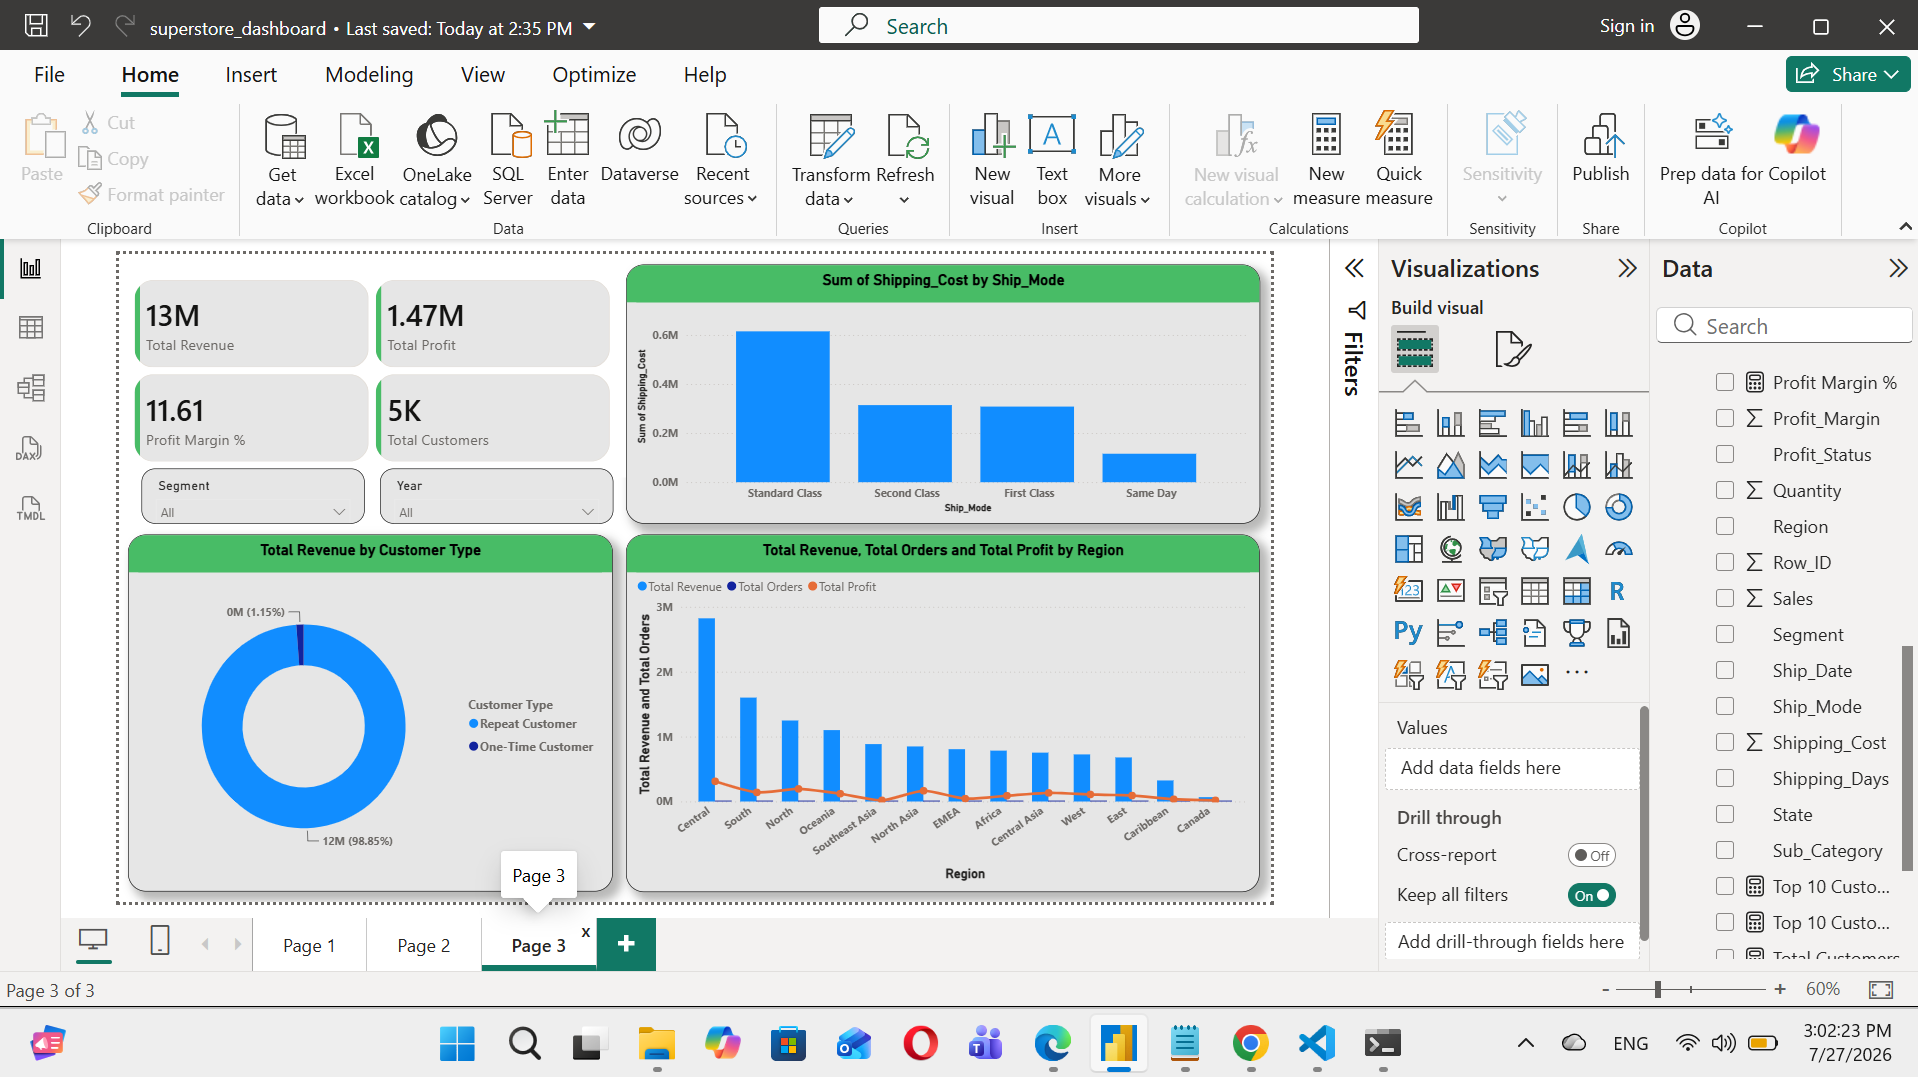

The page's visual inventory and layout, read from the dashboard file:
{"tool":"powerbi","page":{"name":"Page 3","canvas":[1280,720],"ordinal":2},"visuals":[{"type":"donutChart","fields":{"Category":["superstoredb sales.Customer Type"],"Y":["superstoredb sales.Total Revenue"]},"box":[10,311.7,538.3,396.7],"z":0},{"type":"columnChart","fields":{"Category":["superstoredb sales.Ship_Mode"],"Y":["Sum(superstoredb sales.Shipping_Cost)"]},"box":[563.5,11.3,704.4,288.2],"z":1000},{"type":"cardVisual","fields":{"Data":["superstoredb sales.Total Revenue","superstoredb sales.Total Profit","superstoredb sales.Profit Margin %","superstoredb sales.Total Customers"]},"box":[0,11.3,563.5,236.4],"z":3000},{"type":"slicer","fields":{"Values":["superstoredb sales.Segment"]},"box":[24.3,238,247.7,61.5],"z":4000},{"type":"slicer","fields":{"Values":["superstoredb sales.Year"]},"box":[289.8,238,259.1,61.5],"z":5000},{"type":"lineClusteredColumnComboChart","fields":{"Y":["superstoredb sales.Total Revenue","superstoredb sales.Total Orders"],"Y2":["superstoredb sales.Total Profit"],"Category":["superstoredb sales.Region"]},"box":[563,311,704,397],"z":5001}]}

Visuals, with their boxes on the page's 1280x720 design canvas (x1, y1, x2, y2). These are canvas units, not pixel positions in the 1918x1077 screenshot, which may show the page scaled, cropped or inside an application window:
donutChart - superstoredb sales.Customer Type x superstoredb sales.Total Revenue: region(10, 312, 548, 708)
columnChart - superstoredb sales.Ship_Mode x Sum(superstoredb sales.Shipping_Cost): region(564, 11, 1268, 300)
cardVisual - superstoredb sales.Total Revenue x superstoredb sales.Total Profit: region(0, 11, 564, 248)
slicer - superstoredb sales.Segment: region(24, 238, 272, 300)
slicer - superstoredb sales.Year: region(290, 238, 549, 300)
lineClusteredColumnComboChart - superstoredb sales.Total Revenue x superstoredb sales.Total Orders: region(563, 311, 1267, 708)
